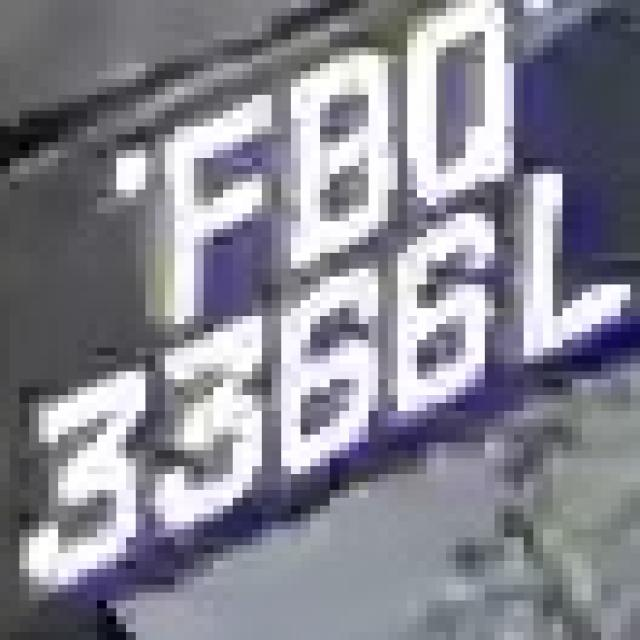3: (146, 300, 282, 522), (10, 363, 146, 584)
6: (252, 269, 388, 474), (368, 221, 504, 411)
B: (262, 32, 388, 276)
F: (136, 63, 272, 332)
L: (485, 150, 630, 379)
Q: (388, 8, 533, 213)
